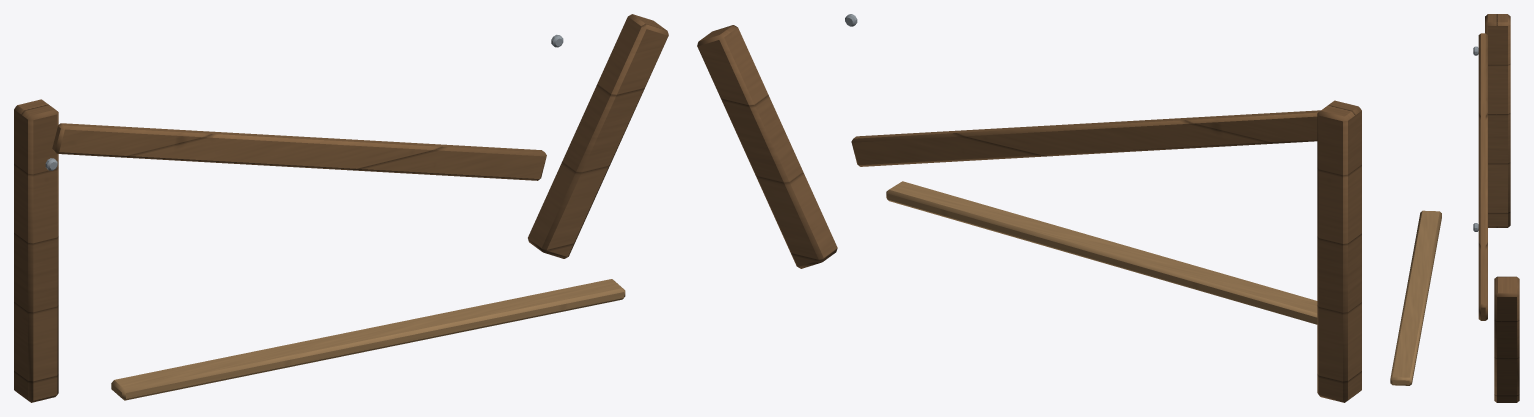
Rendered from fence_rail_broken.glb.
3 views of the same model, side by side, from view 1: azimuth 30°, elevation 25°; view 2: azimuth 150°, elevation 25°; view 3: azimuth 270°, elevation 25° (orthographic). The views are drawn at different scales.
Parts seen in each view (by area): view 1: fence_rail_broken; view 2: fence_rail_broken; view 3: fence_rail_broken.
Part boxes in pixels (x1=…): fence_rail_broken: x1=14, y1=14, x2=668, y2=402; fence_rail_broken: x1=697, y1=14, x2=1361, y2=402; fence_rail_broken: x1=1390, y1=14, x2=1519, y2=402.
Bounding box in the file's own units: 2.94 × 1.25 × 0.7124.
Materials: 4 (4 with a texture image).
